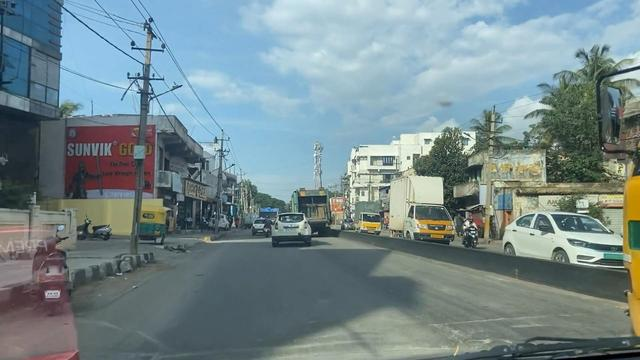LMV: (273, 212, 313, 248)
RoadDamages: (205, 308, 584, 353), (91, 315, 184, 360)
